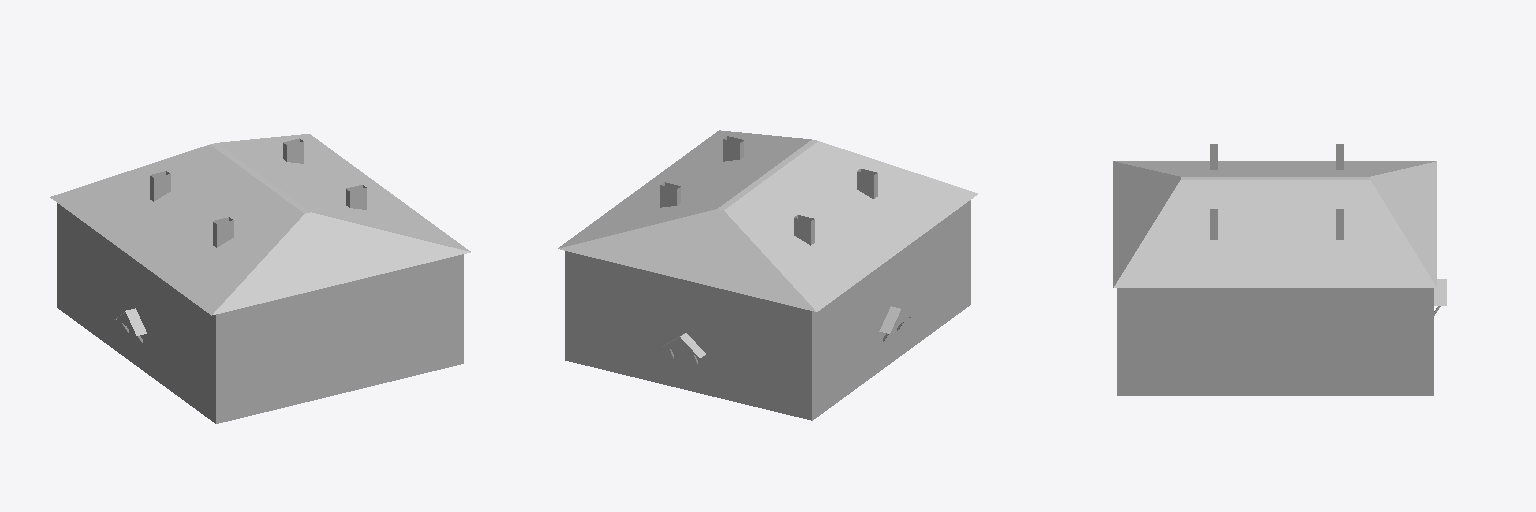
The model's file is house_norm.obj.
3 renders of one model, left to right at view 1: azimuth 30°, elevation 25°; view 2: azimuth 150°, elevation 25°; view 3: azimuth 270°, elevation 25°, orthographic.
Visible parts, largest first — view 1: MainModel; view 2: MainModel; view 3: MainModel.
Boxes of the visible parts, x1=… form: MainModel: x1=50, y1=134, x2=470, y2=423; MainModel: x1=558, y1=130, x2=977, y2=420; MainModel: x1=1113, y1=144, x2=1446, y2=395.
Size of the model in its own units: 0.9167 by 0.5218 by 1.